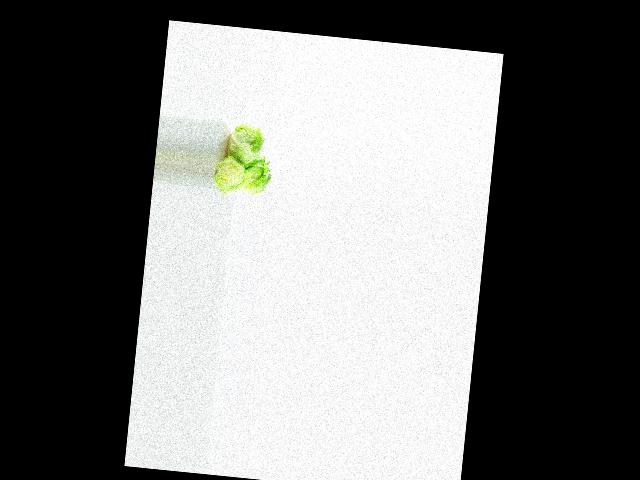lettuce: (238, 152, 276, 197)
